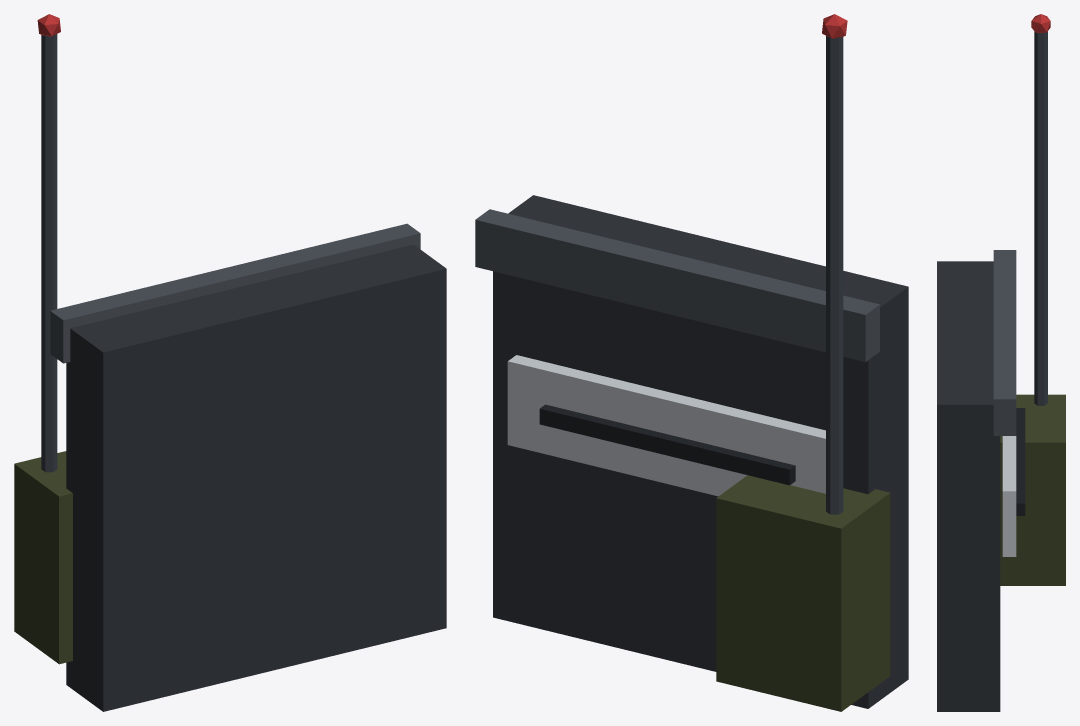
Rendered from inf_warden_plate_back.fbx.
3 renders of one model, left to right at view 1: azimuth 30°, elevation 25°; view 2: azimuth 150°, elevation 25°; view 3: azimuth 270°, elevation 25°, orthographic. The views are drawn at different scales.
Parts seen in each view (by area): view 1: inf_warden_plate_back; view 2: inf_warden_plate_back; view 3: inf_warden_plate_back.
Boxes of the visible parts, x1,y1,x2,y2 form: inf_warden_plate_back: (14,14,446,711); inf_warden_plate_back: (475,14,908,711); inf_warden_plate_back: (937,14,1065,711).
Bounding box in the file's own units: 159 × 272 × 57.
